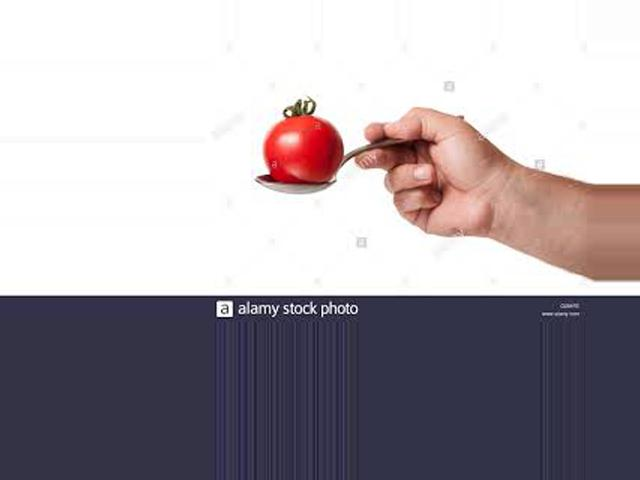tomato: (264, 114, 344, 182)
